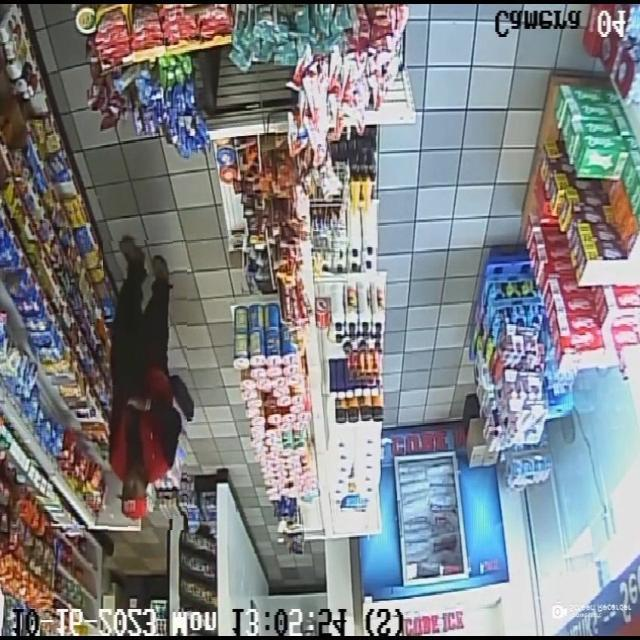Normal: (105, 240, 187, 530)
